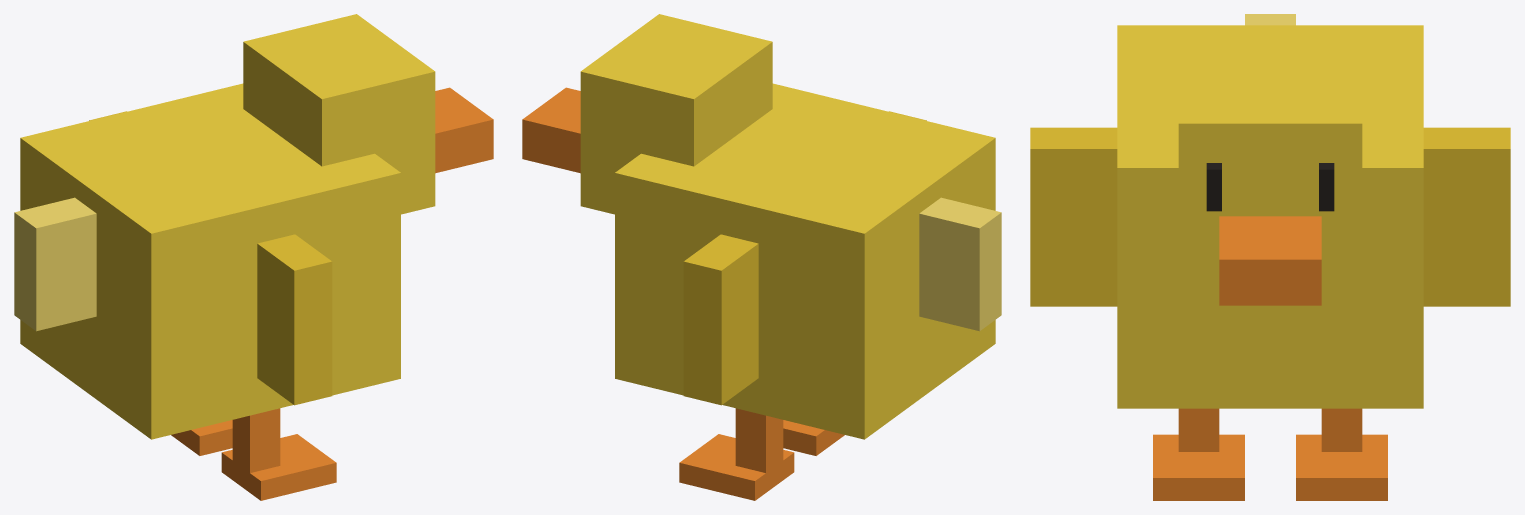
The model's file is animals__duck.glb.
3 views of the same model, side by side, from view 1: azimuth 30°, elevation 25°; view 2: azimuth 150°, elevation 25°; view 3: azimuth 270°, elevation 25° (orthographic). The views are drawn at different scales.
Visible parts, largest first — view 1: animals__duck; view 2: animals__duck; view 3: animals__duck.
Part boxes in pixels (bbox=[...]): animals__duck: bbox=[14, 14, 493, 500]; animals__duck: bbox=[522, 14, 1001, 500]; animals__duck: bbox=[1030, 14, 1510, 500].
Size of the model in its own units: 1.18 by 0.95 by 0.94.
